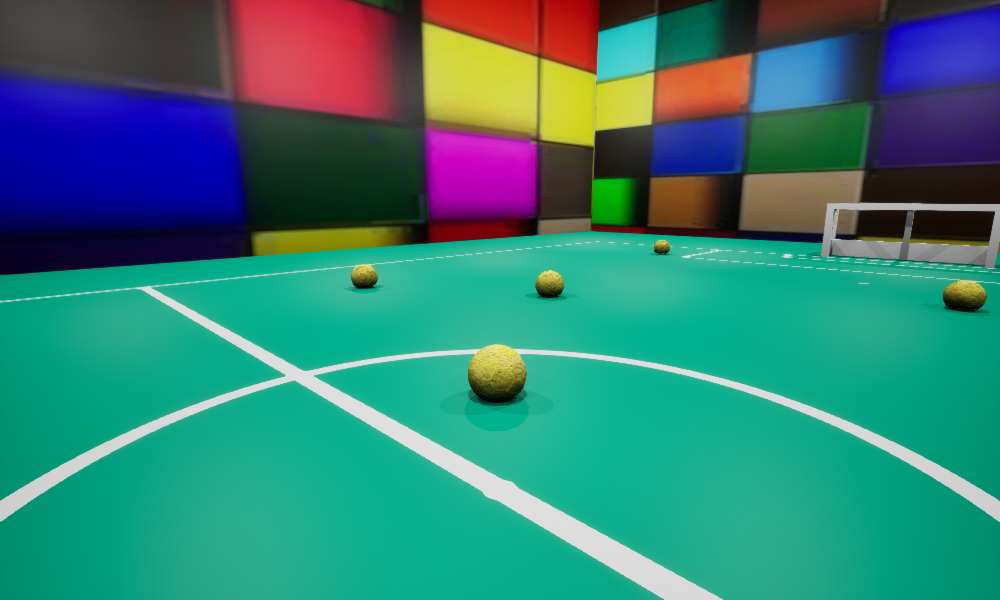b: (468, 344, 526, 401), (943, 280, 986, 310), (535, 270, 563, 297), (351, 264, 377, 288), (654, 240, 669, 253)
g: (821, 203, 999, 267)
